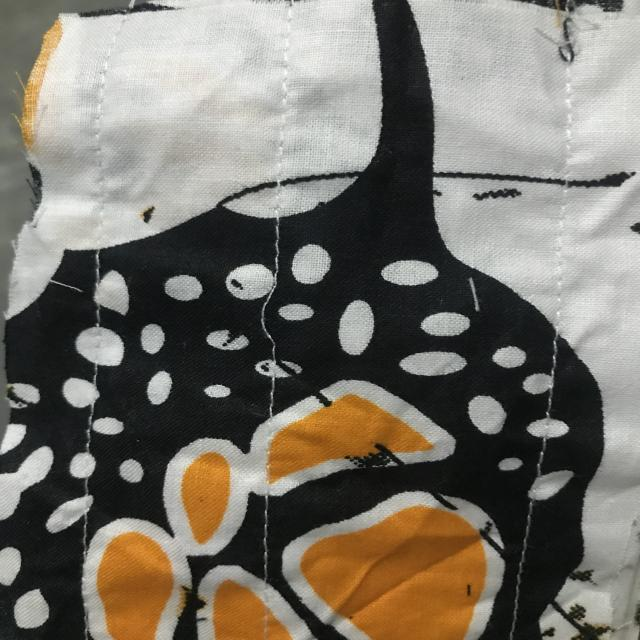good: (509, 512, 542, 597)
skip: (223, 259, 321, 358)
